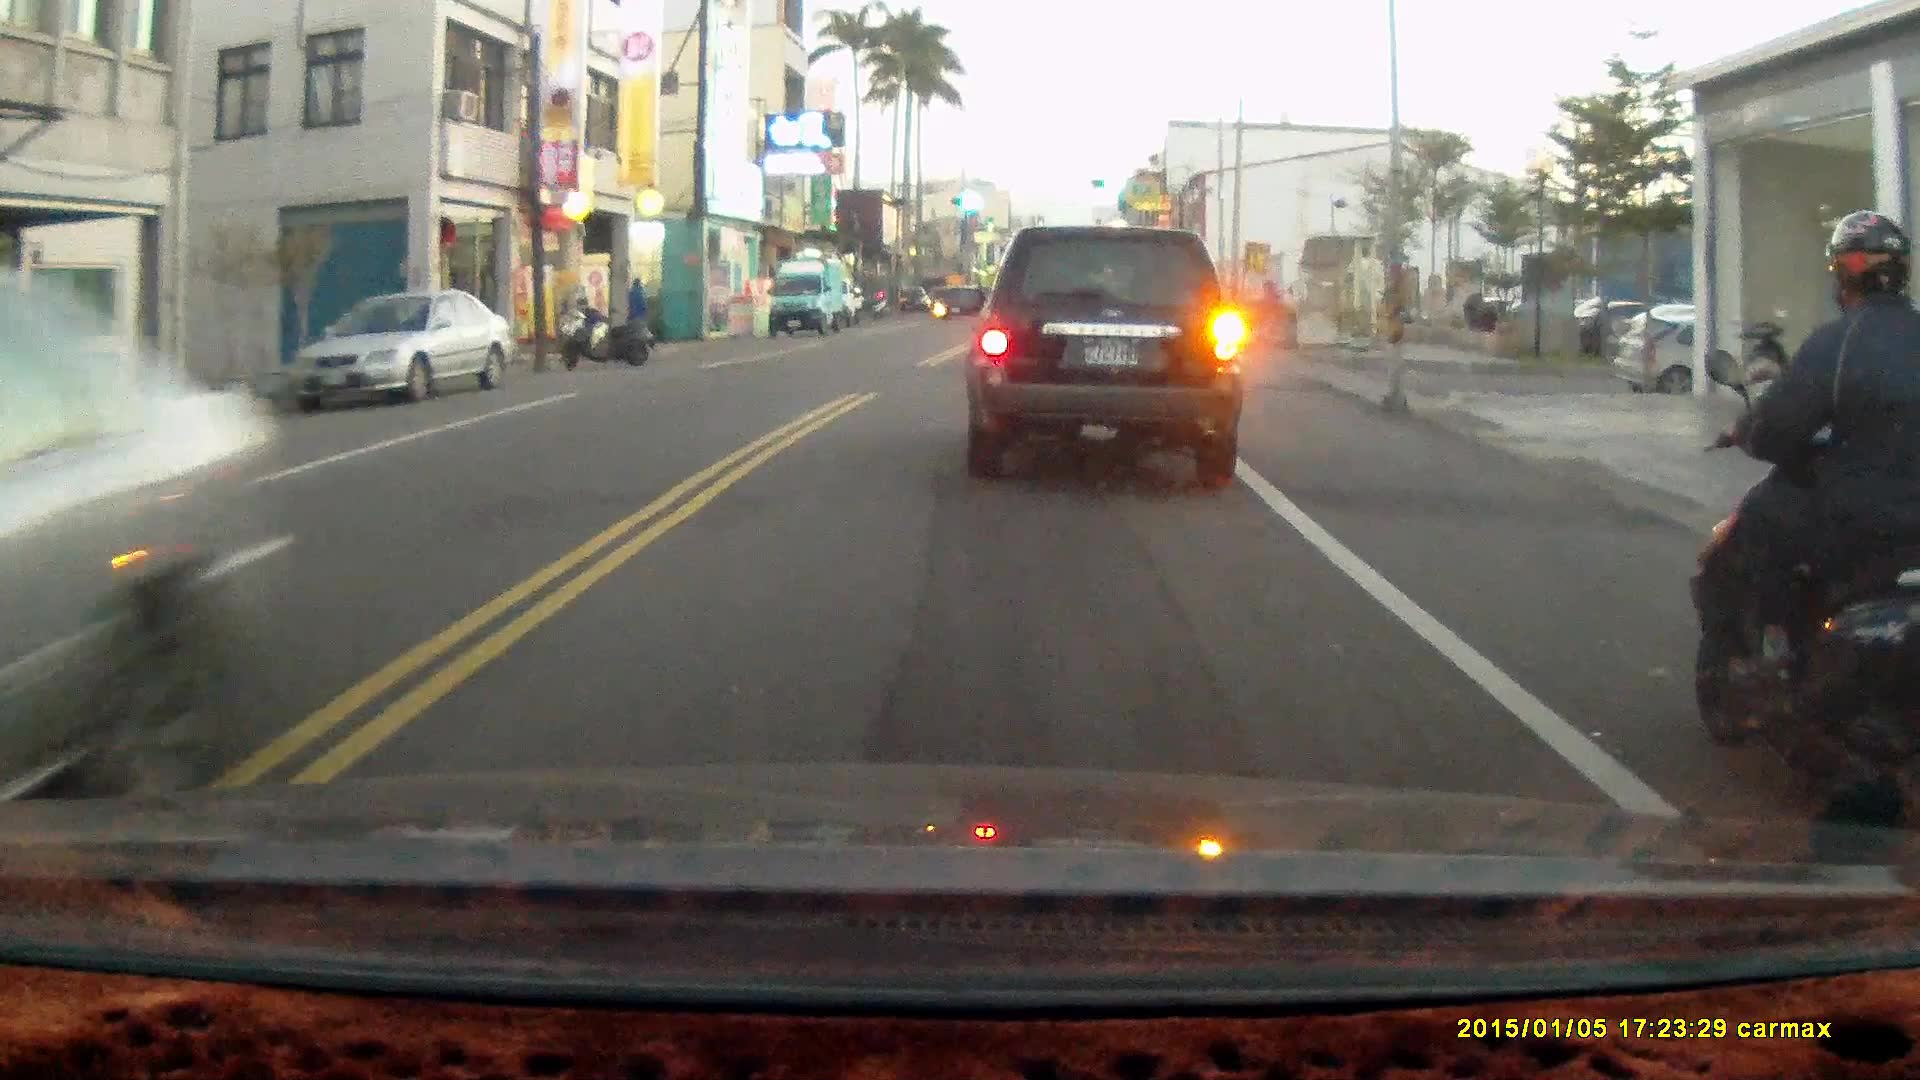pedestrian: (623, 273, 653, 355)
rider: (1679, 206, 1920, 848)
vehicle: (1, 287, 308, 812), (973, 223, 1249, 491), (283, 288, 514, 407), (1617, 317, 1838, 401), (767, 259, 853, 342)
